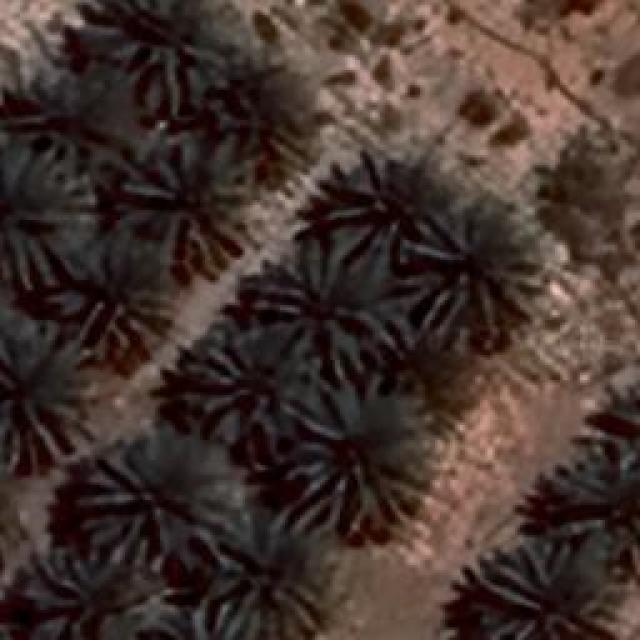PalmTree: (75, 425, 243, 573), (282, 372, 428, 538), (402, 192, 548, 326), (270, 240, 408, 375), (122, 135, 258, 270), (105, 0, 238, 110), (0, 320, 98, 462), (0, 147, 95, 290), (480, 542, 620, 638), (20, 562, 165, 640), (214, 532, 316, 640), (201, 330, 281, 442), (30, 68, 120, 162), (550, 440, 638, 535), (332, 152, 412, 250), (226, 78, 304, 162), (84, 252, 154, 340)
